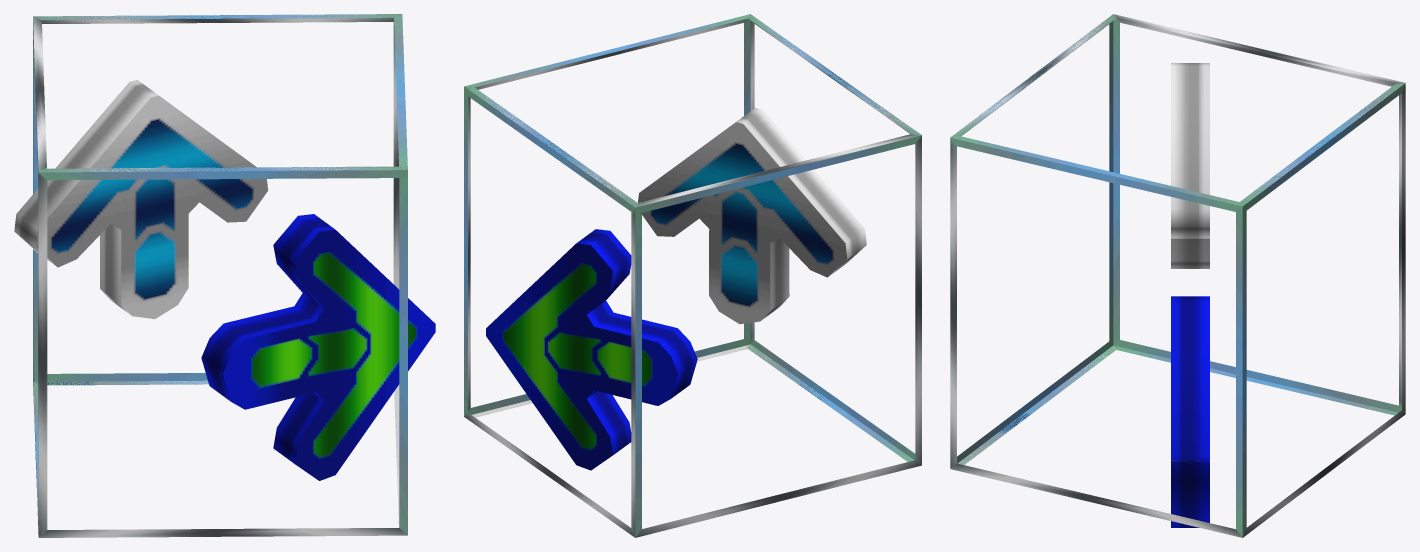
File: output.ico.obj
The picture shows the model from 3 angles, left to right: view 1: azimuth 30°, elevation 25°; view 2: azimuth 150°, elevation 25°; view 3: azimuth 270°, elevation 25°; orthographic projection. The views are drawn at different scales.
Size of the model in its own units: 4.52 by 4.21 by 4.52.
Materials: 1 (1 with a texture image).
